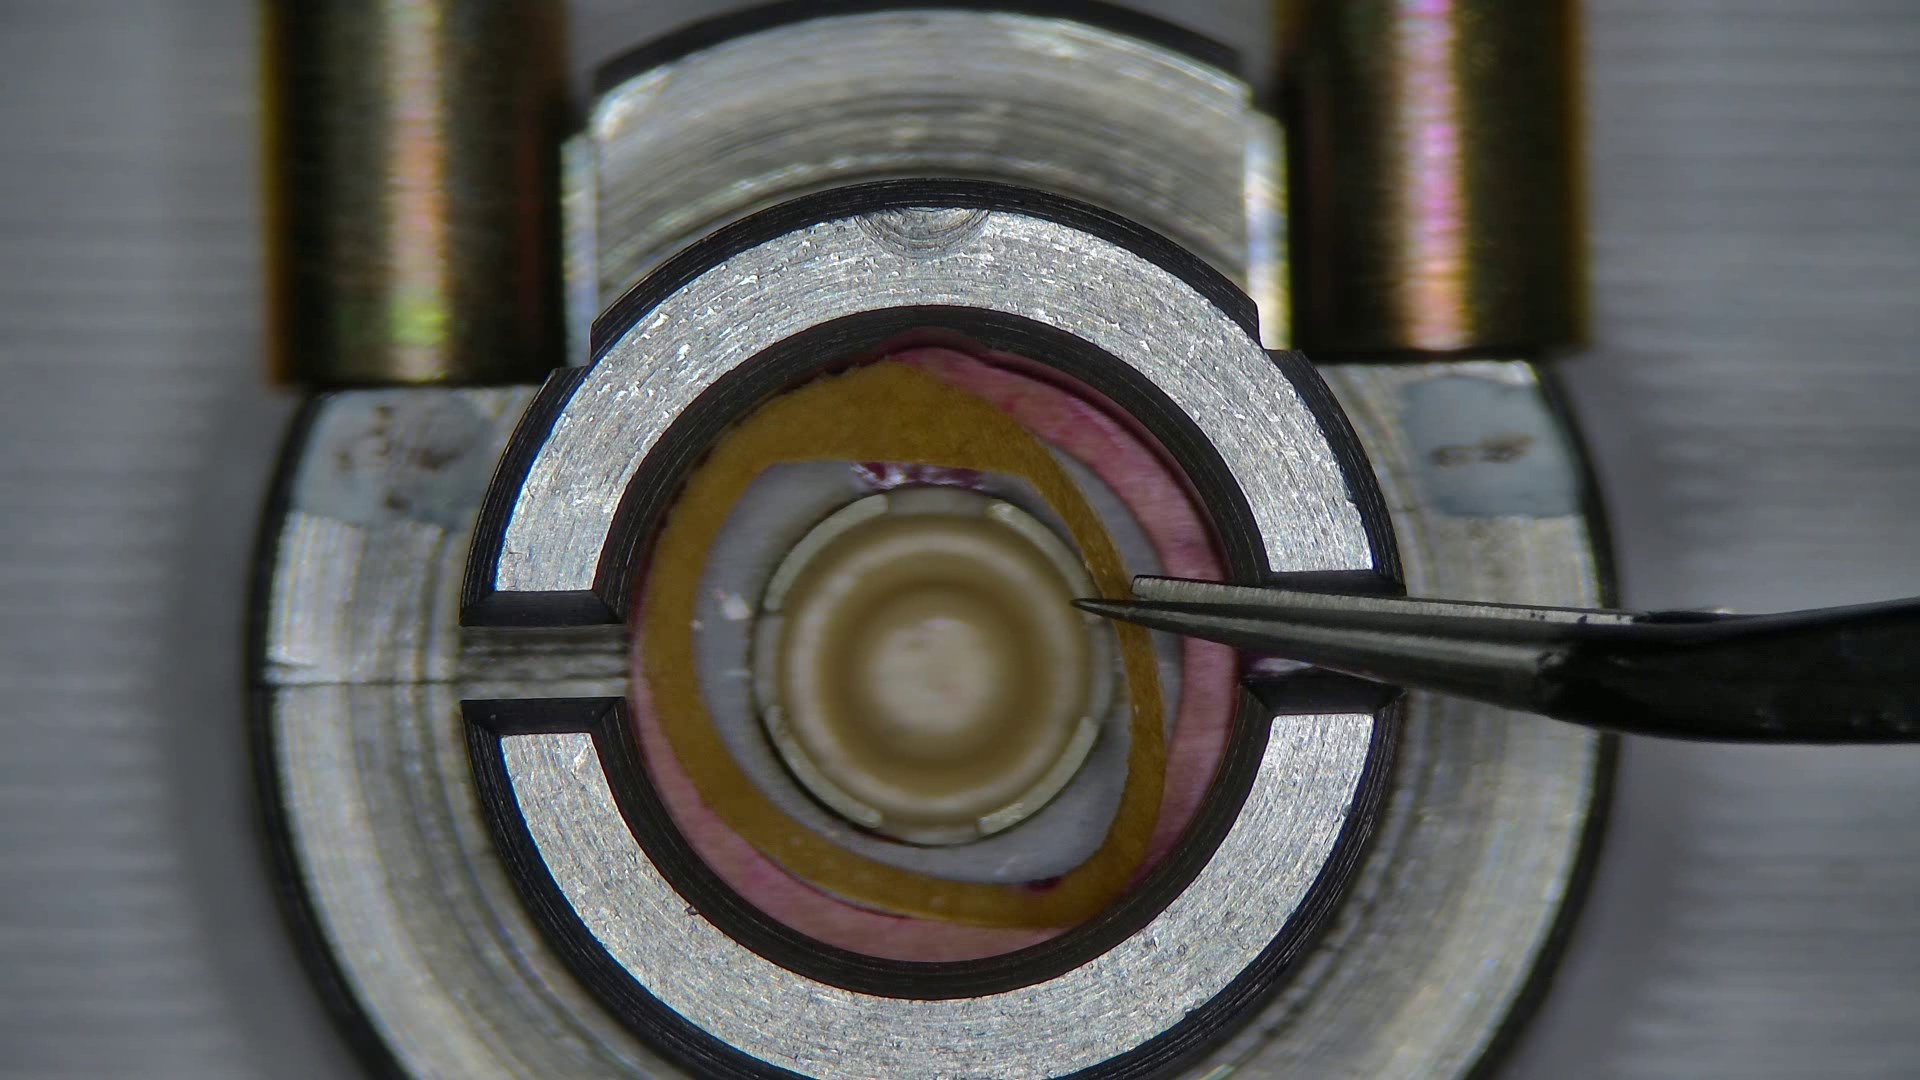GreyOring: (626, 349, 1221, 963), (1153, 640, 1224, 857)
YellowOring: (696, 460, 1127, 880), (1073, 465, 1162, 575), (1153, 626, 1185, 727)
redOring: (646, 365, 1164, 926)
